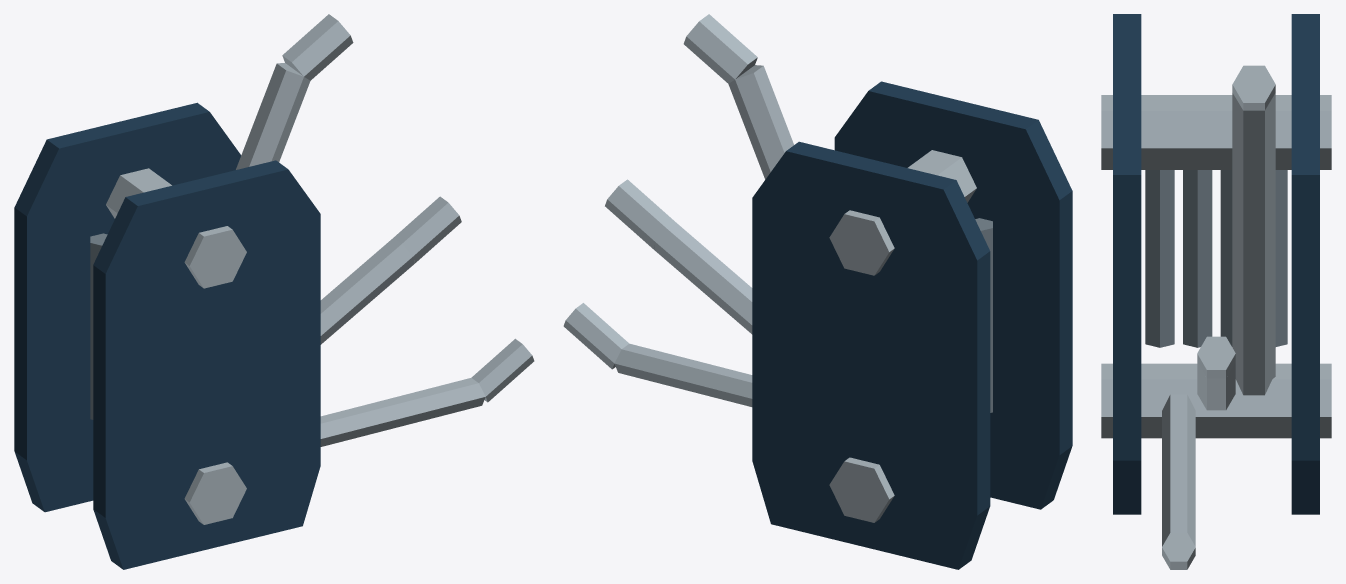
The model's file is b06_folding_hex_key_set.glb.
The picture shows the model from 3 angles, left to right: view 1: azimuth 30°, elevation 25°; view 2: azimuth 150°, elevation 25°; view 3: azimuth 270°, elevation 25°; orthographic projection. The views are drawn at different scales.
Visible parts, largest first — view 1: b06_folding_hex_key_set; view 2: b06_folding_hex_key_set; view 3: b06_folding_hex_key_set.
Part boxes in pixels (bbox=[...]): b06_folding_hex_key_set: bbox=[14, 14, 534, 569]; b06_folding_hex_key_set: bbox=[563, 14, 1072, 569]; b06_folding_hex_key_set: bbox=[1101, 14, 1331, 569].
Bounding box in the file's own units: 0.1266 × 0.1174 × 0.049.
